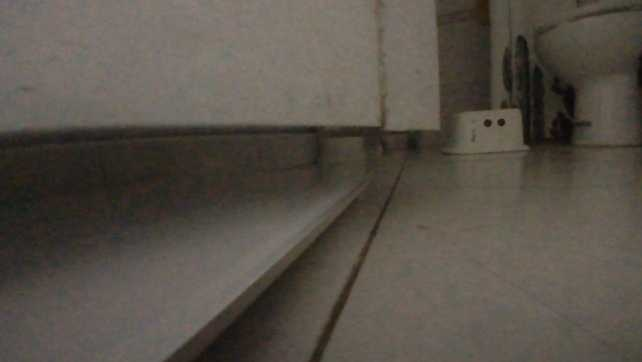toilet: (533, 0, 639, 147)
weight_scale: (1, 178, 372, 355)
